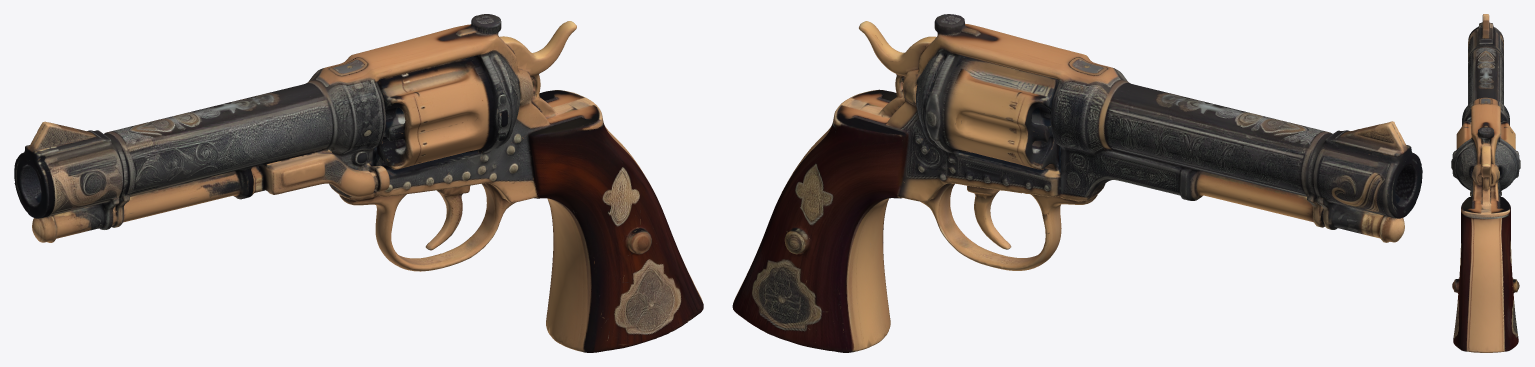
File: mod3.glb
3 views of the same model, side by side, from view 1: azimuth 30°, elevation 25°; view 2: azimuth 150°, elevation 25°; view 3: azimuth 270°, elevation 25° (orthographic). The views are drawn at different scales.
Visible parts, largest first — view 1: Mesh1.0; view 2: Mesh1.0; view 3: Mesh1.0.
Part boxes in pixels (box(x1,y1,x2,y2)): Mesh1.0: box(14, 14, 703, 352); Mesh1.0: box(732, 14, 1422, 352); Mesh1.0: box(1451, 14, 1520, 352).
Bounding box in the file's own units: 2.01 × 0.9949 × 0.3439.
1 material, 1 textured.
